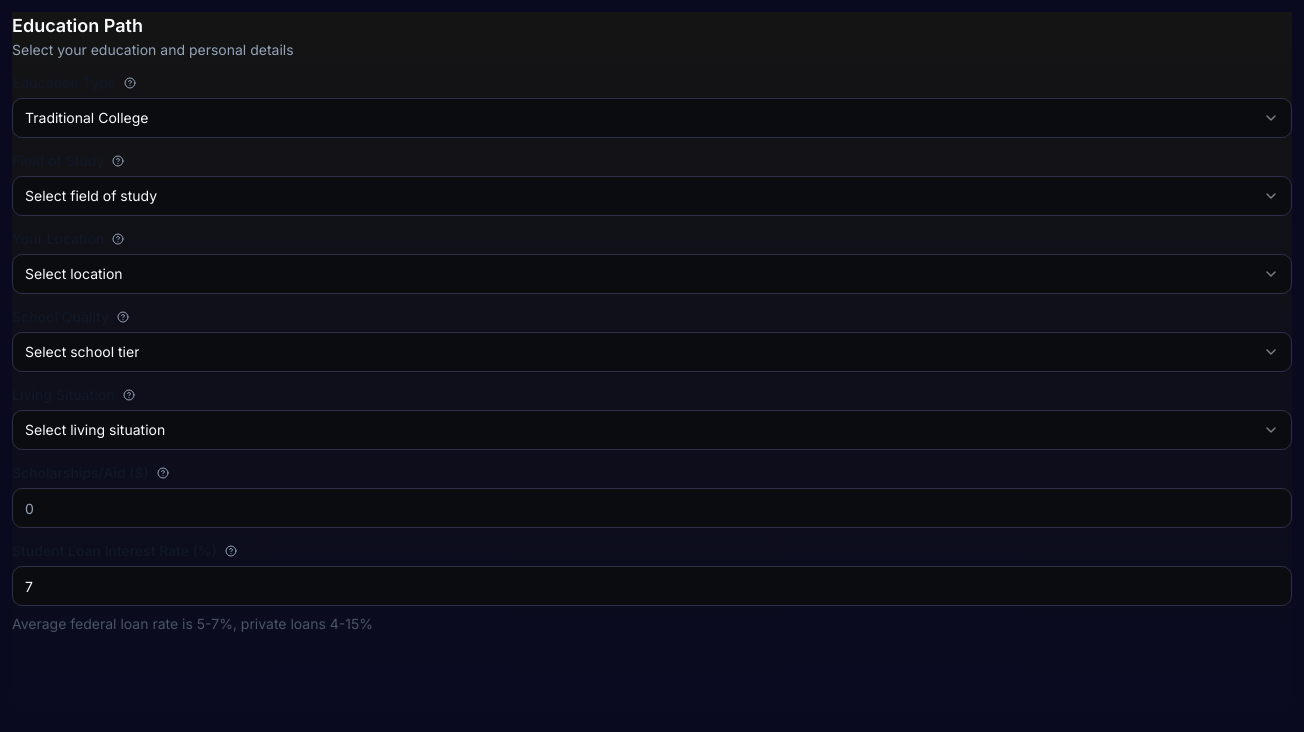
Scenario: PathBuilder Component › Cascading Selections › should show field options after education type is selected
Click the dropdown "Select field of study" at (91, 196), box x1=12 y1=176 x2=1292 y2=216
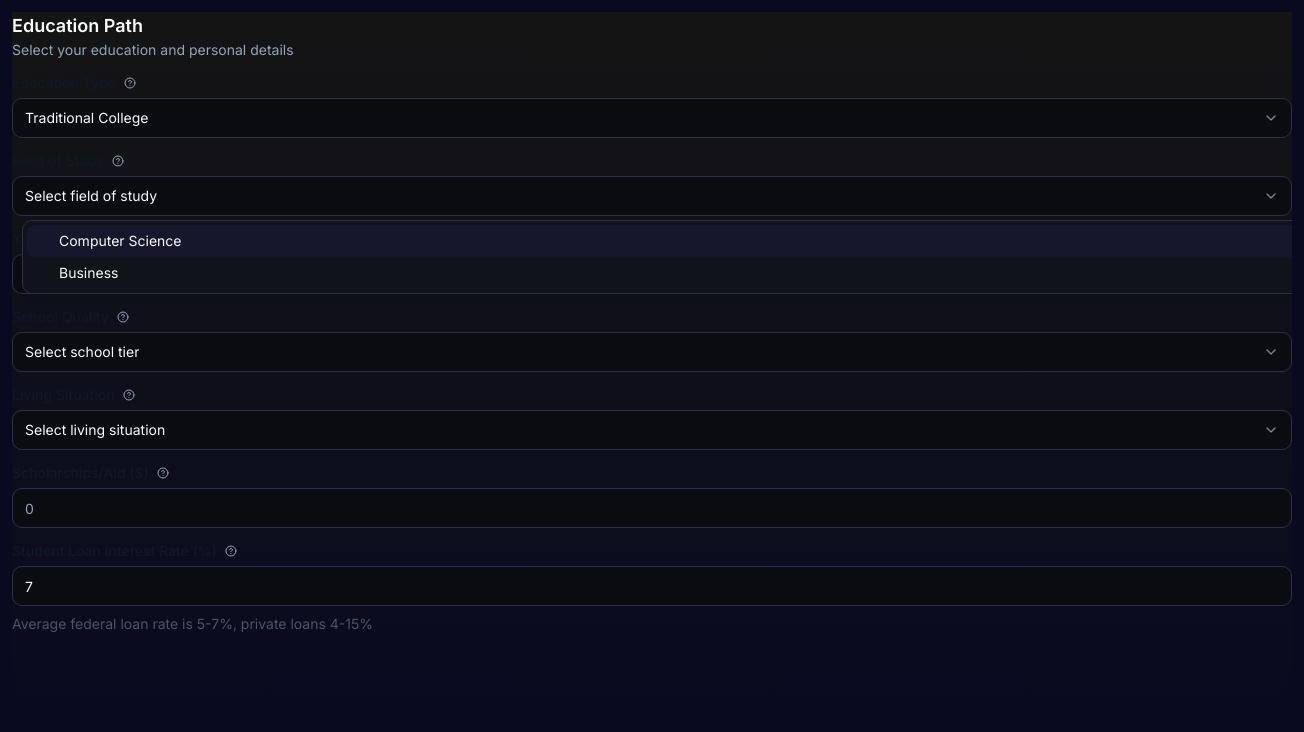
Check: the text "Computer Science" is shown, box x1=59 y1=231 x2=182 y2=251
Check: the text "Business" is shown, box x1=59 y1=263 x2=118 y2=283
